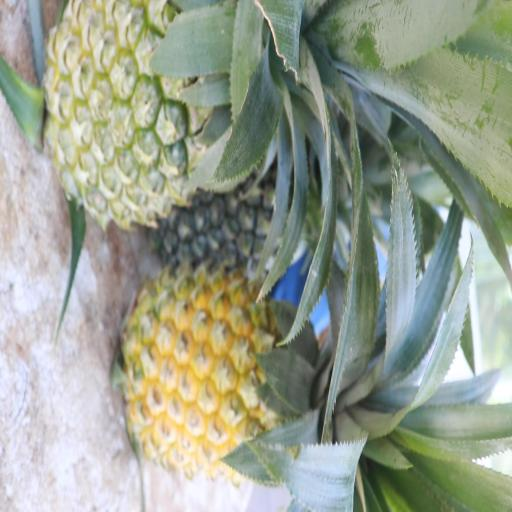------------------------------: (51, 0, 255, 229)
Pineapple - v8 v1: (125, 271, 336, 466)
